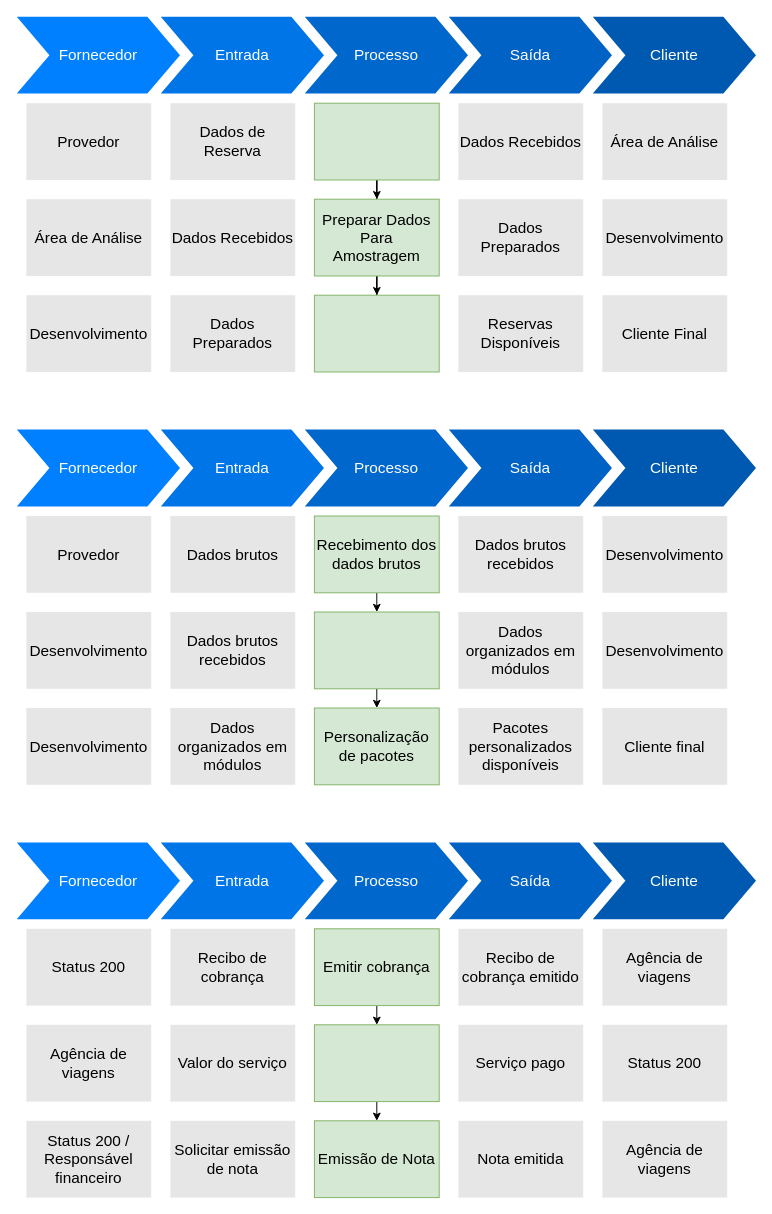
Some shapes in this 772 by 1214 pixel diagram are drawn without their labels. The box of each missing label's shape, as (x1, y1, x2, y2) in pixels:
Disponibilizar Reservas Para Clientes: (313, 294, 439, 372)
Organização dos dados dentro dos módulos: (313, 611, 439, 689)
Pagamento do serviço: (313, 1024, 439, 1102)
Receber Dados de Reserva: (313, 102, 439, 180)
